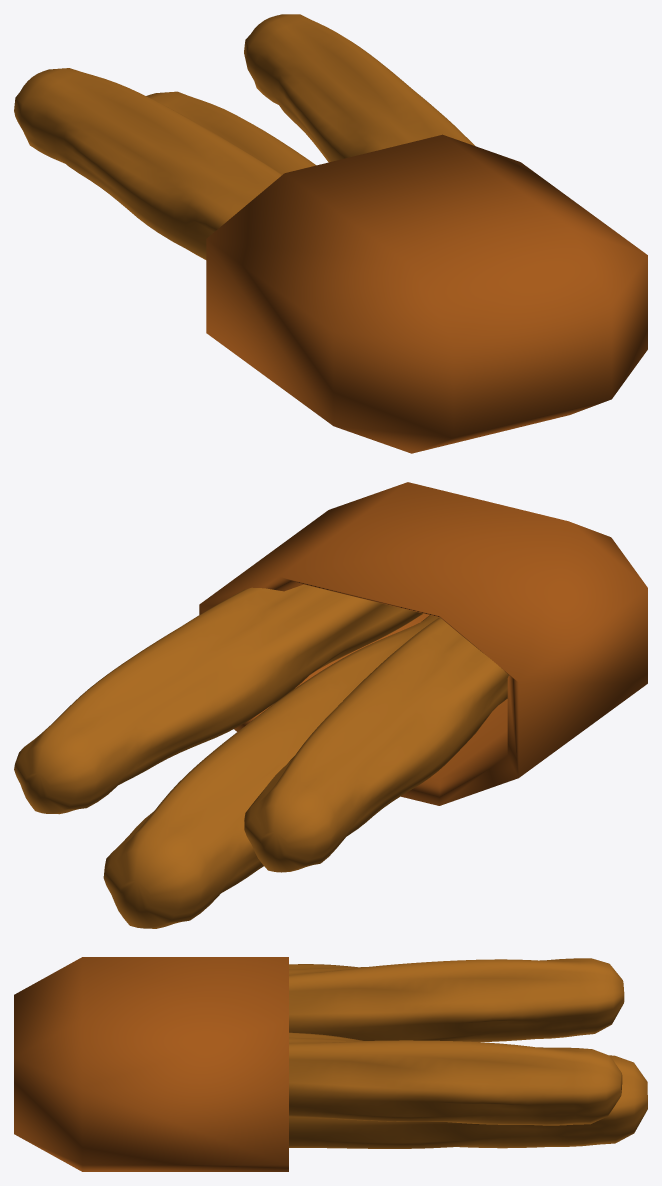
File: breadsticks.fbx
3 renders of one model, top to bottom at view 1: azimuth 30°, elevation 25°; view 2: azimuth 150°, elevation 25°; view 3: azimuth 270°, elevation 25°, orthographic. The views are drawn at different scales.
Visible parts, largest first — view 1: breadsticks; view 2: breadsticks; view 3: breadsticks.
Boxes of the visible parts, <box> form: breadsticks: <box>14,14,647,453</box>; breadsticks: <box>14,482,647,928</box>; breadsticks: <box>14,957,647,1171</box>.
Size of the model in its own units: 770 by 441 by 1651.
